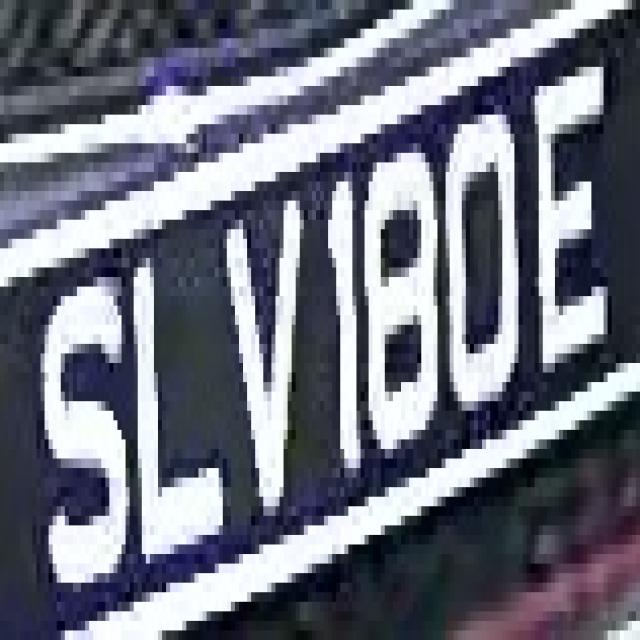0: (437, 114, 539, 430)
1: (312, 162, 377, 488)
8: (352, 134, 446, 458)
E: (522, 76, 620, 372)
L: (121, 210, 223, 583)
S: (32, 296, 130, 592)
V: (215, 181, 320, 535)
